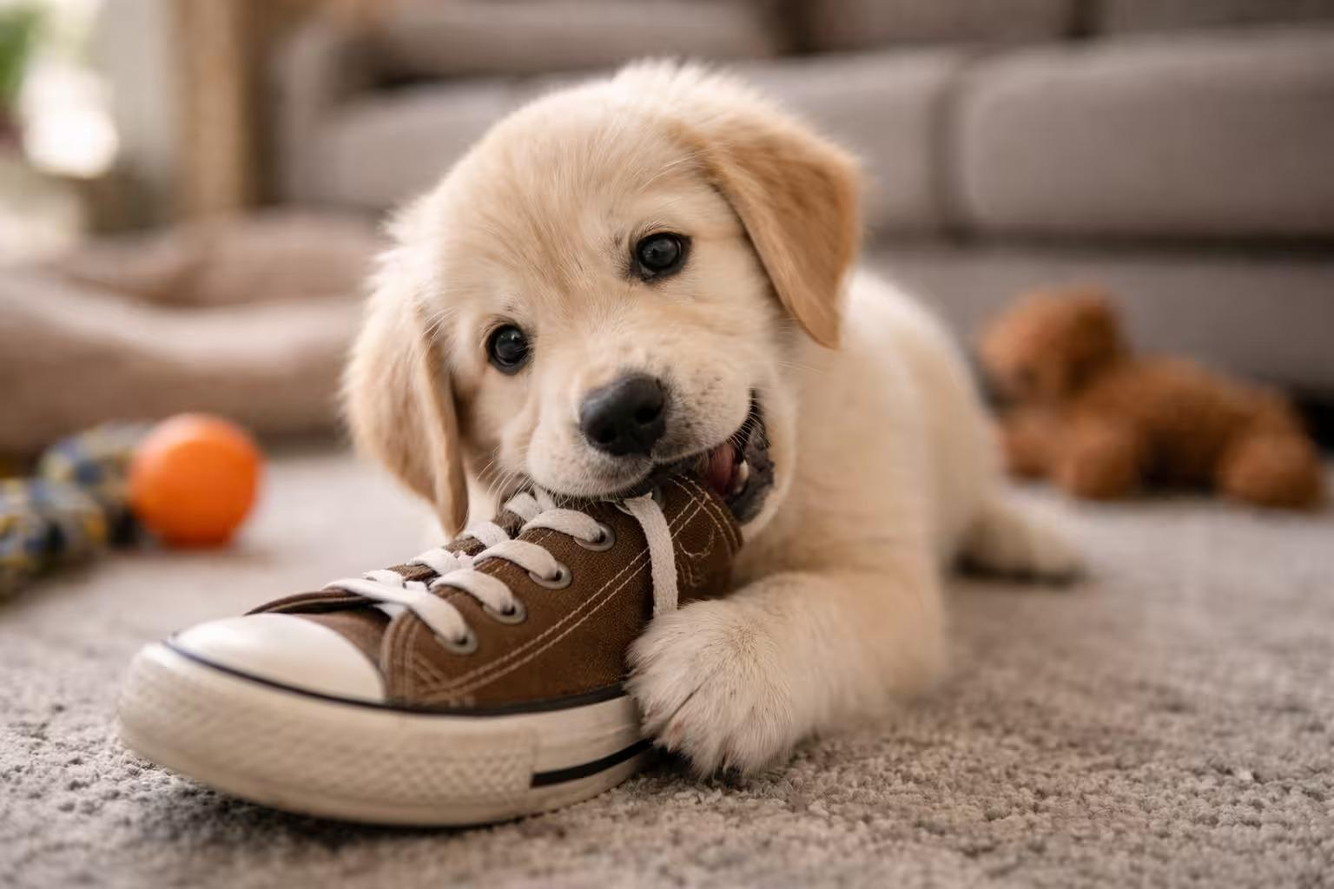puppy-dog: (341, 52, 1085, 781)
